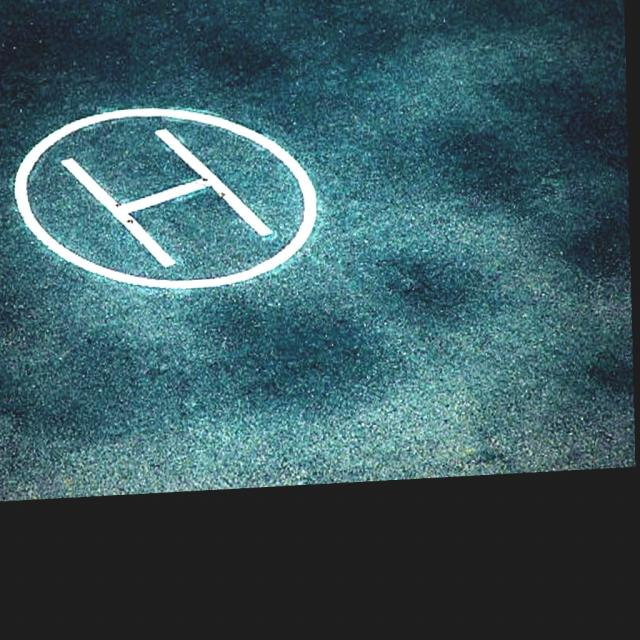helipad: (9, 102, 322, 294)
